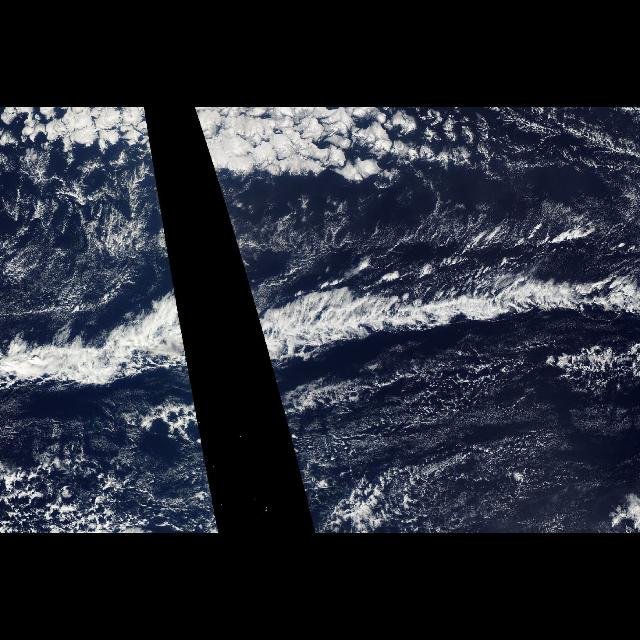Fish: (227, 215, 637, 435), (2, 215, 202, 435)
Flower: (193, 110, 515, 208), (4, 110, 164, 208)
Gravel: (322, 345, 640, 527), (2, 401, 220, 531)
Sugar: (277, 394, 633, 528), (217, 182, 519, 292), (11, 394, 220, 528), (6, 182, 178, 300)
